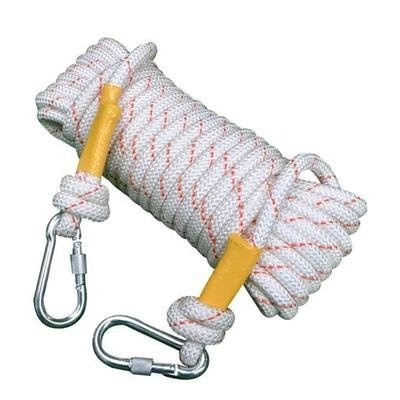9/可回收垃圾/绳子: (35, 37, 367, 367)
